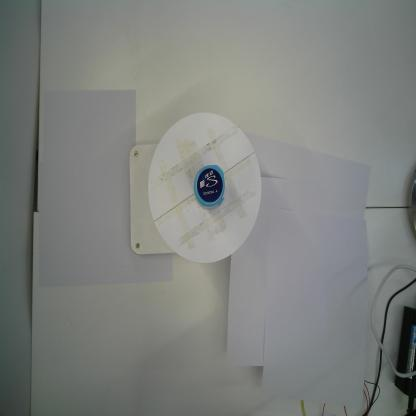Gum: (193, 164, 225, 210)
